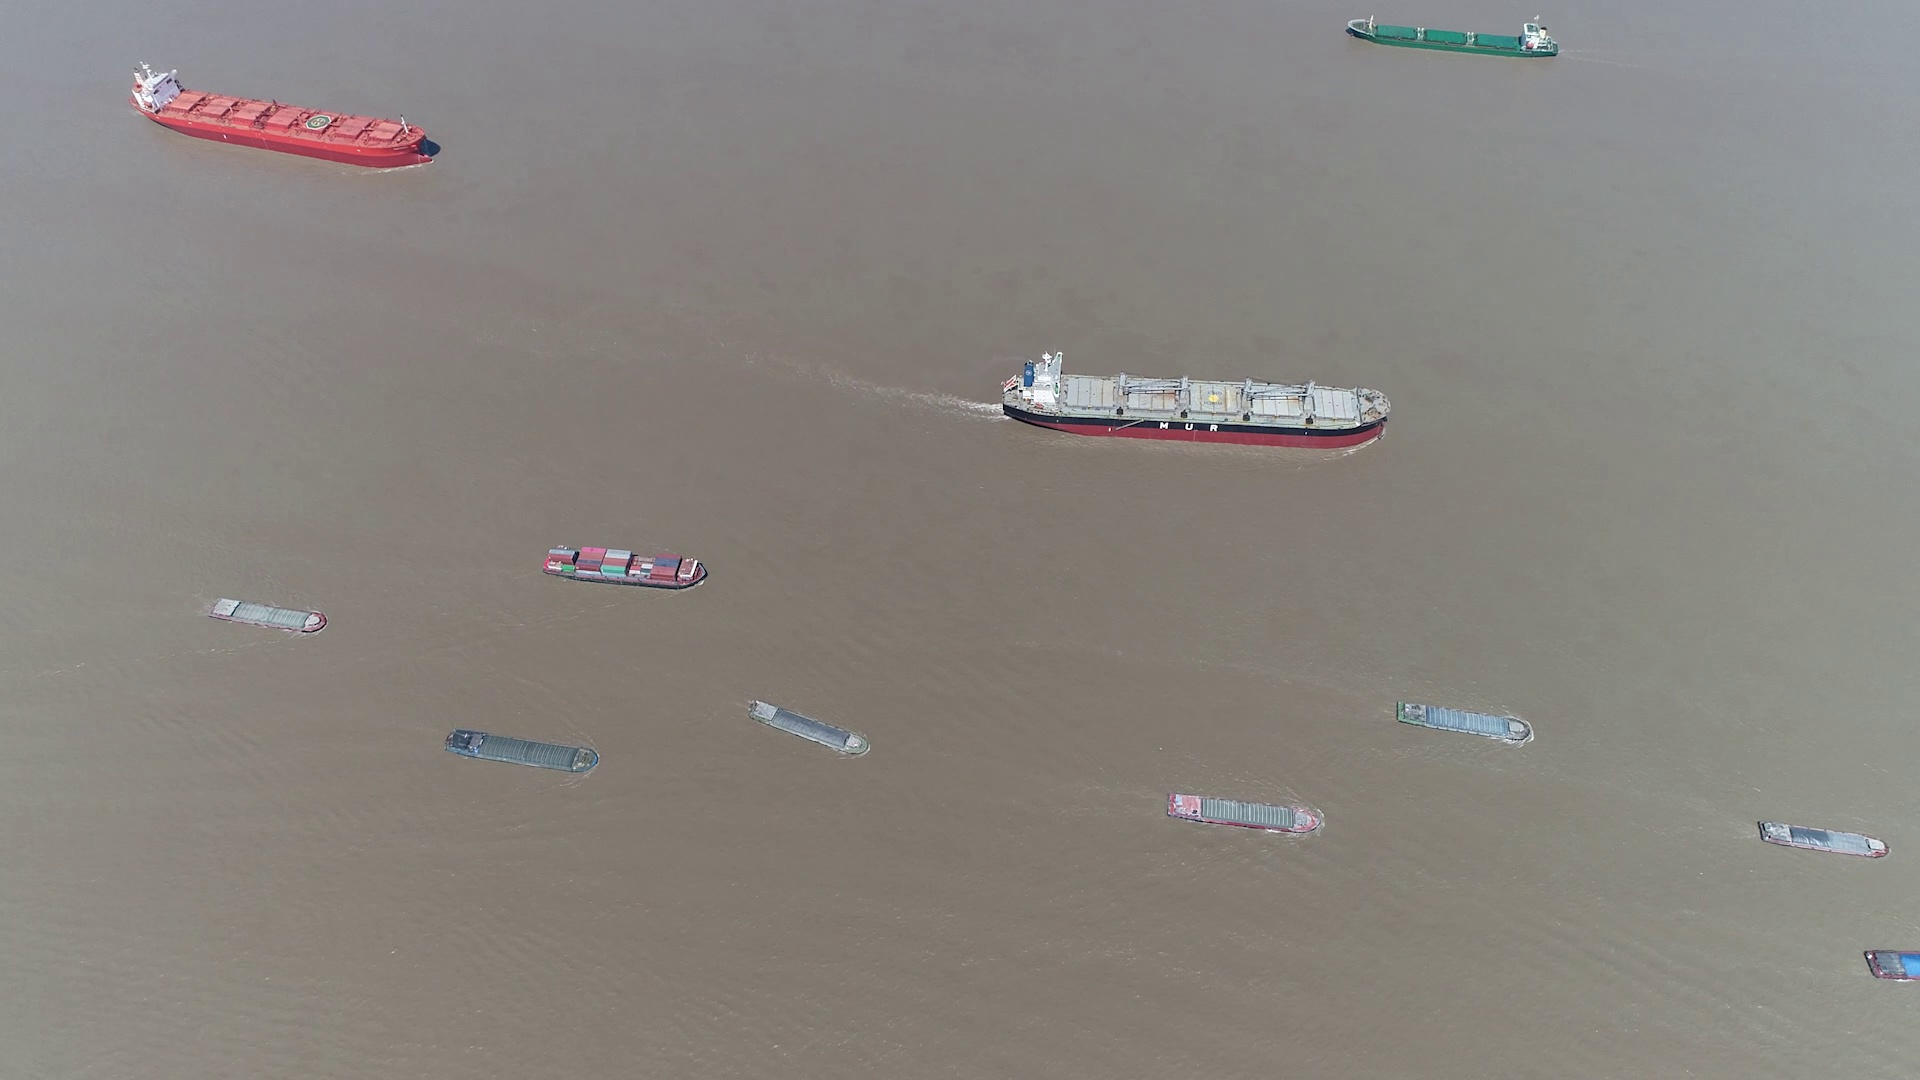ship: (1000, 353, 1387, 448), (135, 61, 438, 166), (1348, 17, 1557, 59), (749, 700, 873, 761), (542, 542, 707, 587), (444, 728, 600, 774), (1171, 793, 1324, 835), (1394, 702, 1534, 742), (1756, 822, 1888, 858), (207, 596, 328, 633), (1865, 949, 1919, 982)
